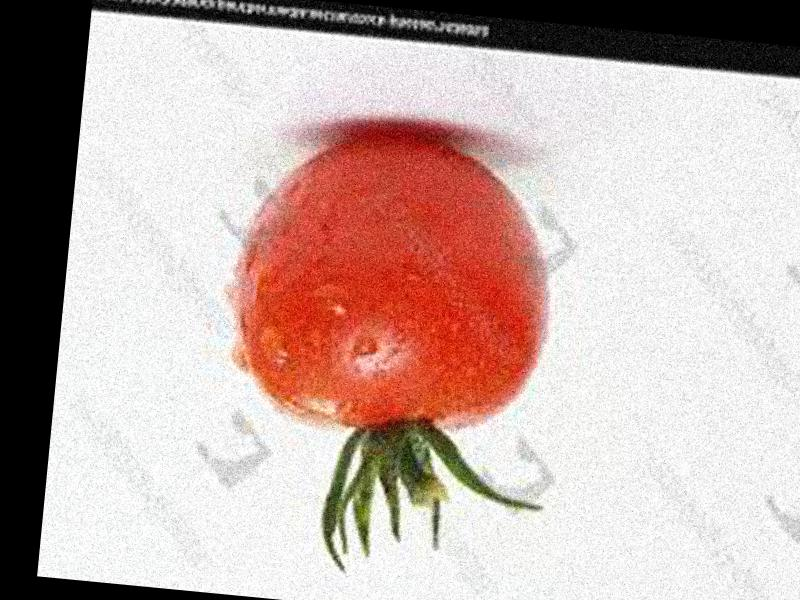Tomato: (224, 121, 564, 441)
